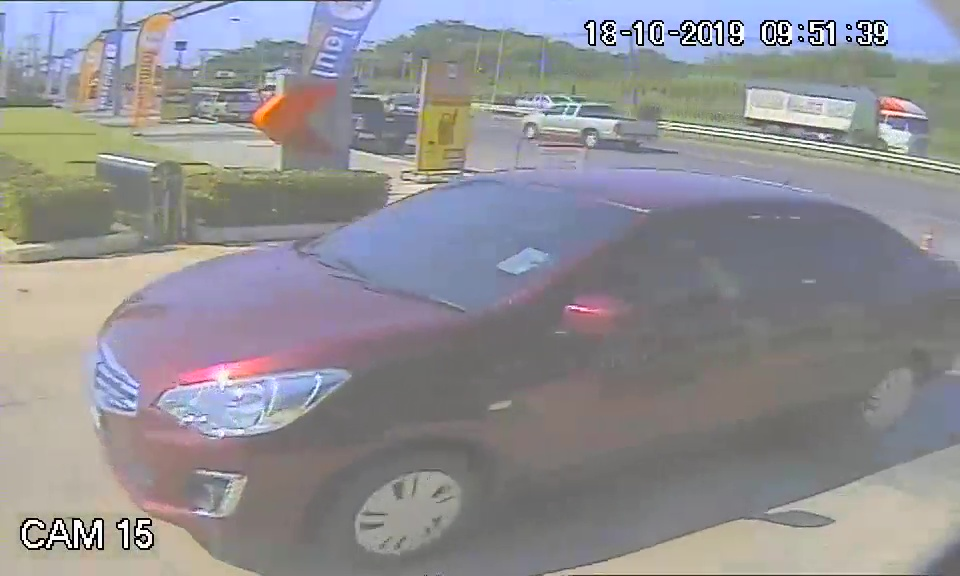sedan: (82, 165, 959, 534)
